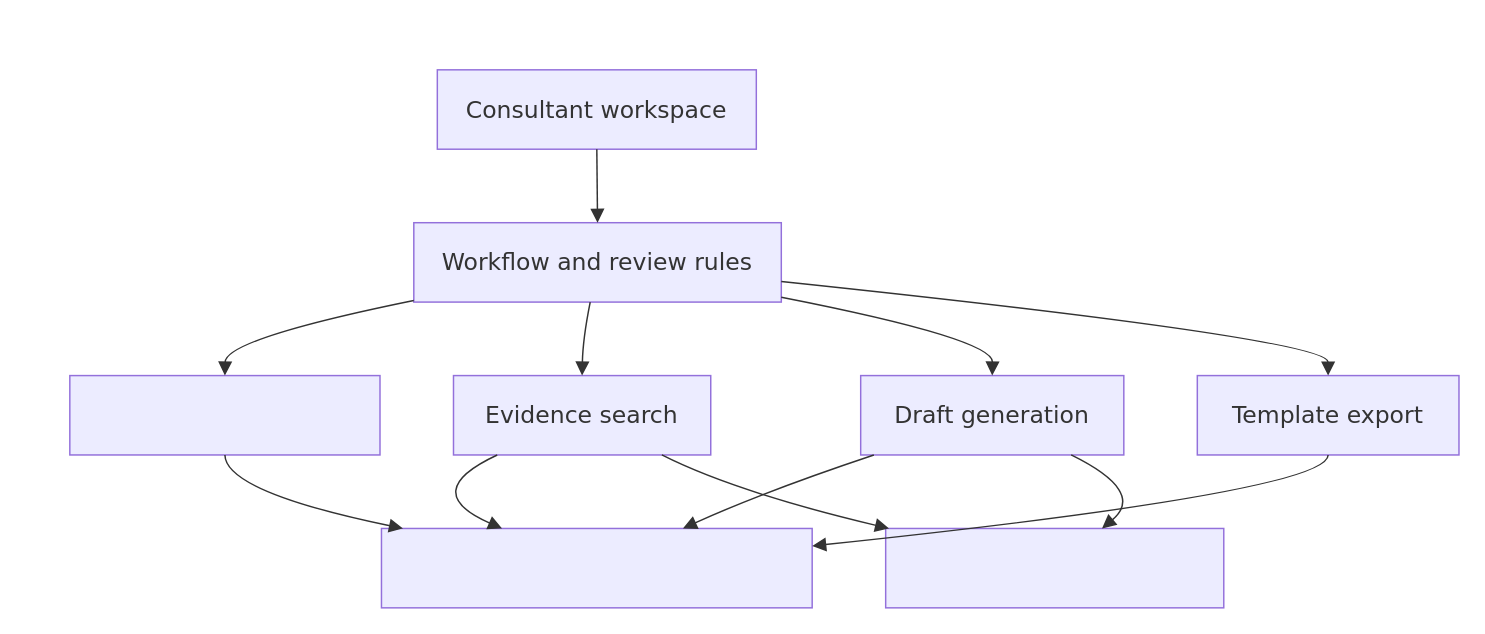
Some shapes in this 1485 by 634 pixel diagram are drawn without their labels. Here are the shapes that lost their labels. From the top down, the centre of each, then its label:
At point 224,414: "Document extraction".
At point 596,567: "Project state and source records".
At point 1054,567: "Replaceable LLM access".
